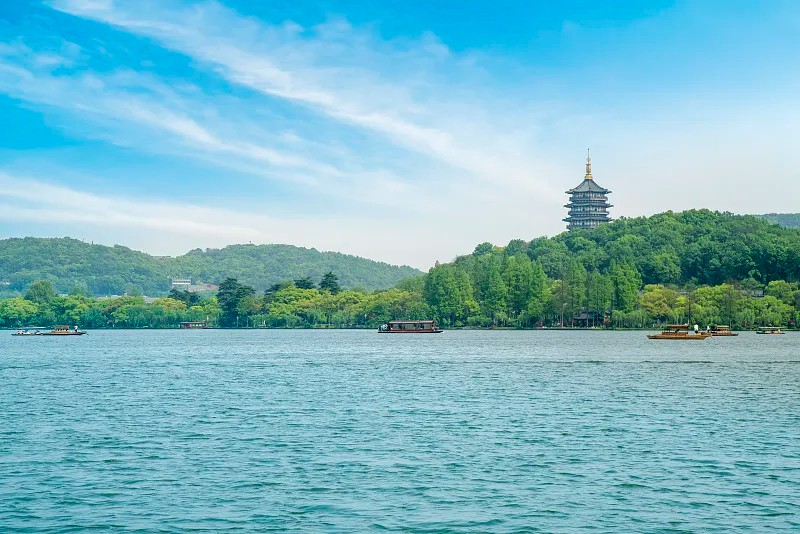Leifeng: (564, 148, 615, 234)
